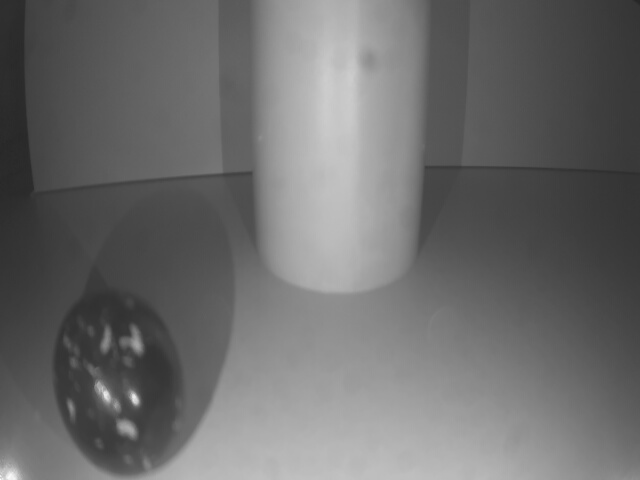Dead: (53, 293, 185, 471)
